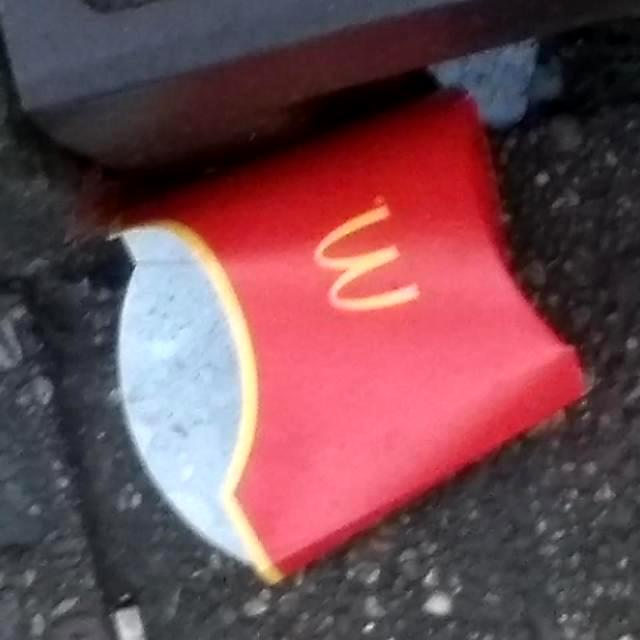Paper: (100, 74, 590, 586), (426, 34, 538, 126)
